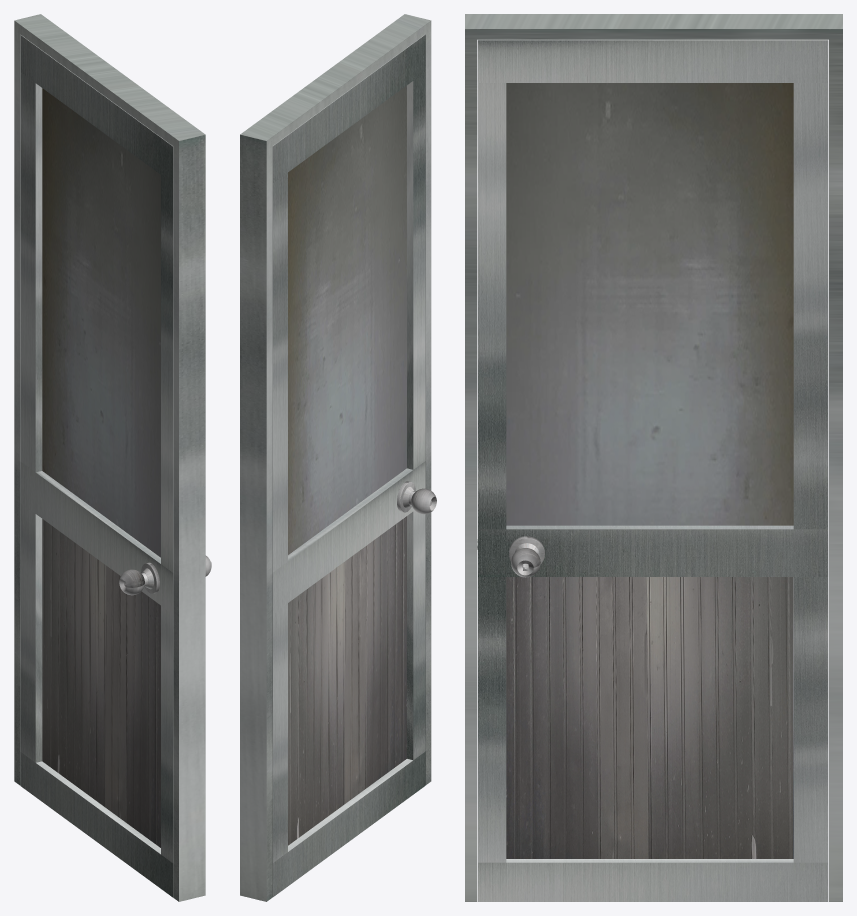
The model's file is KitchenDoor.fbx.
3 renders of one model, left to right at view 1: azimuth 30°, elevation 25°; view 2: azimuth 150°, elevation 25°; view 3: azimuth 270°, elevation 25°, orthographic. The views are drawn at different scales.
Parts seen in each view (by area): view 1: Kitchen Door, Kitchen Door Frame, Kitchen Door Handle 1, Kitchen Door Handle Base 2; view 2: Kitchen Door, Kitchen Door Frame, Kitchen Door Handle 1, Kitchen Door Handle Base 2; view 3: Kitchen Door, Kitchen Door Frame.
Part boxes in pixels (x1,y1,x2,y2): Kitchen Door: (20,35,173,897); Kitchen Door Frame: (14,14,205,901); Kitchen Door Handle 1: (119,569,144,595); Kitchen Door Handle Base 2: (141,562,159,593); Kitchen Door: (272,34,425,896); Kitchen Door Frame: (240,14,431,901); Kitchen Door Handle 1: (411,488,436,514); Kitchen Door Handle Base 2: (397,481,415,512); Kitchen Door: (478,39,828,901); Kitchen Door Frame: (465,14,842,901).
Bounding box in the file's own units: 26.13 × 217 × 85.29.
Materials: 3 (3 with a texture image).
